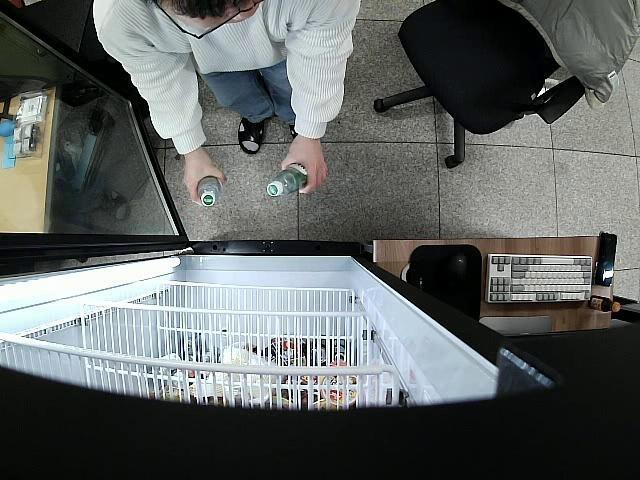18_trevi: (266, 164, 310, 196), (198, 176, 222, 208)
